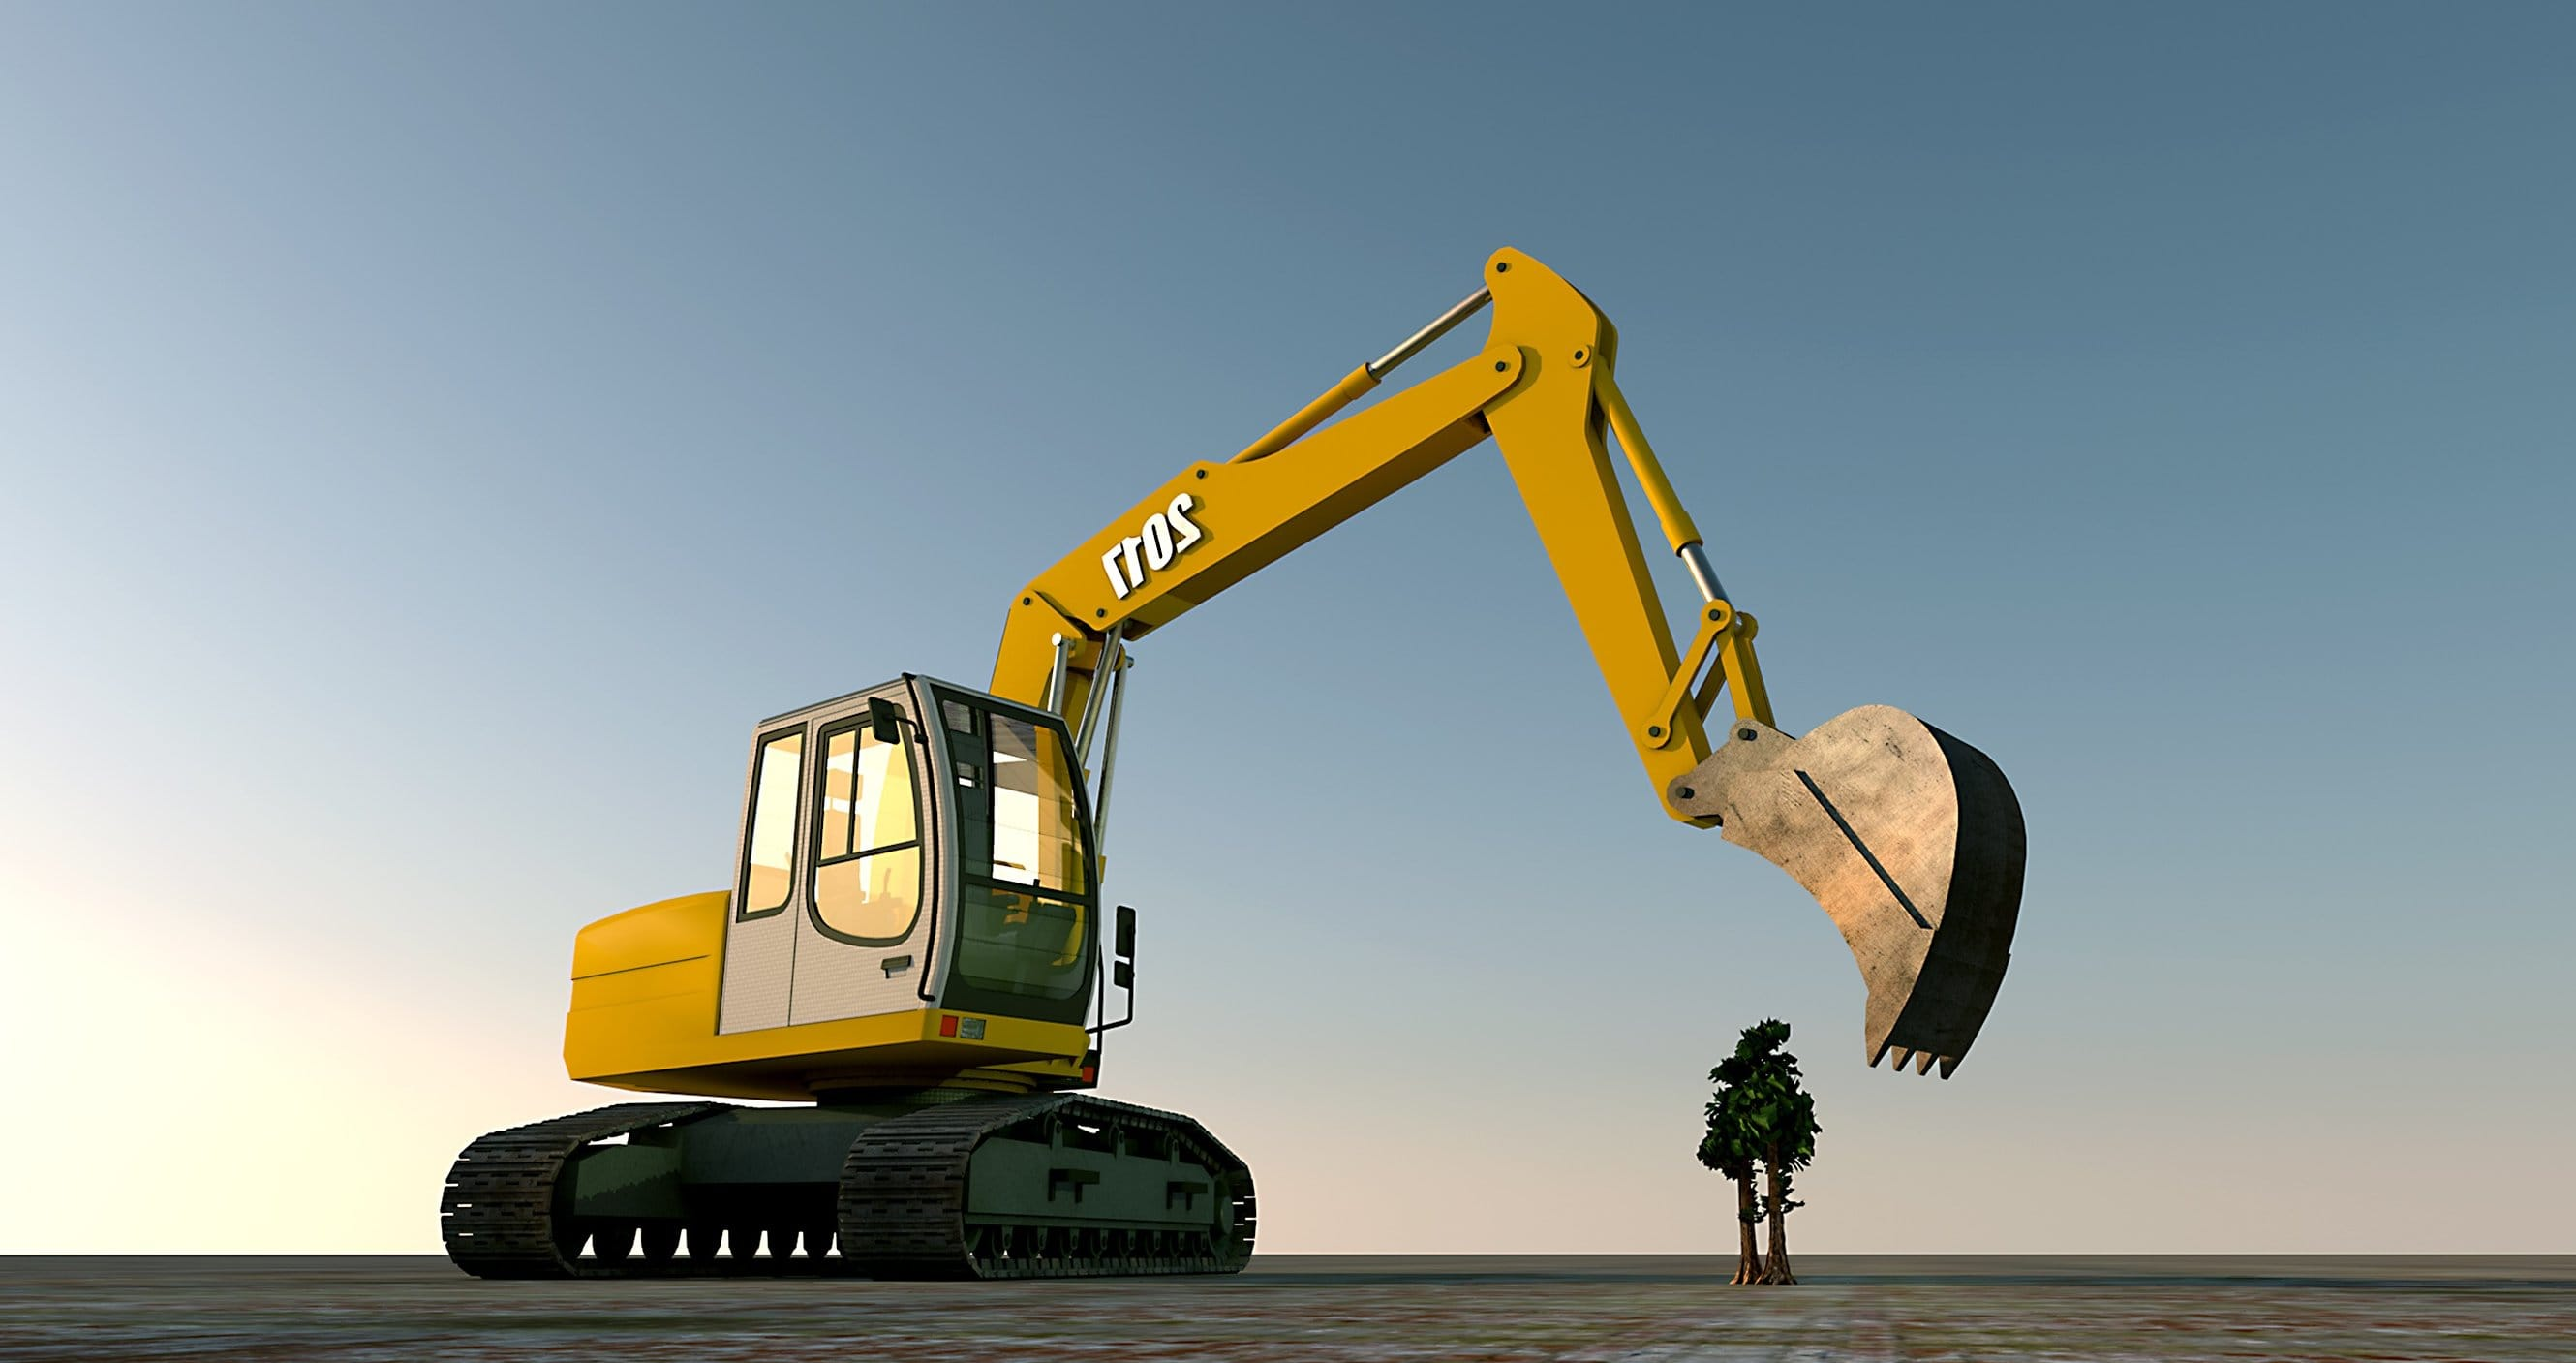excavator: (436, 233, 2065, 1302)
